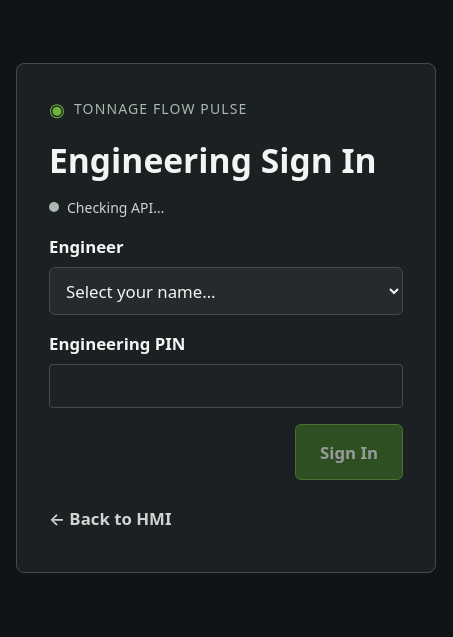
Test: Engineering authentication › shows a safe message during a login lockout (429)
Select "Alfie" in the dropdown labelled "Engineer" at (226, 291), box [49,267,403,315]
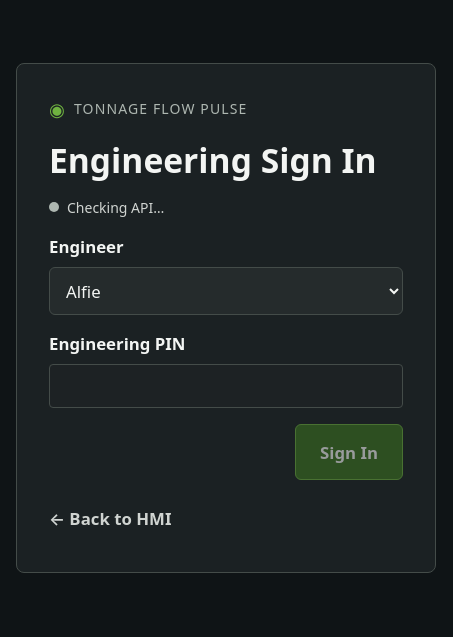
Type "1234" into the password field labelled "Engineering PIN" at (226, 386), box [49,364,403,408]
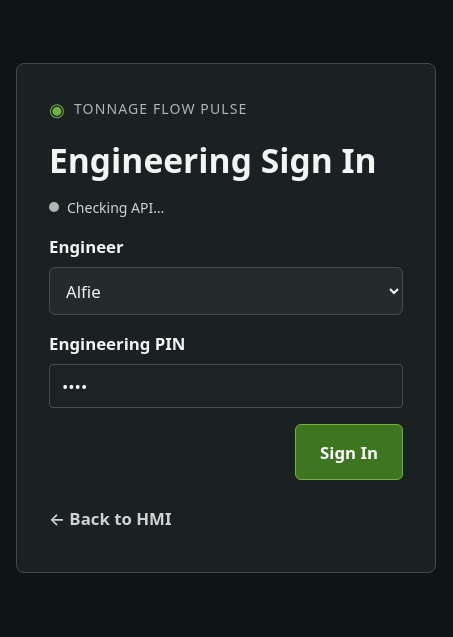
Click the button "Sign In" at (349, 452), box [295,424,403,480]
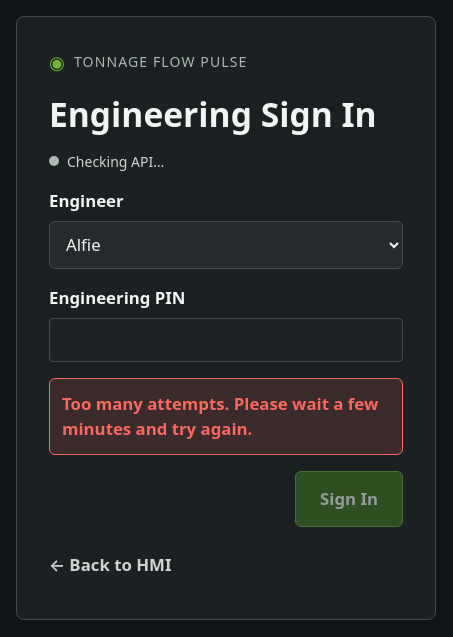
expect the text "Too many attempts. Please wait a few minutes and try again." is shown: met, box [49,378,403,454]
